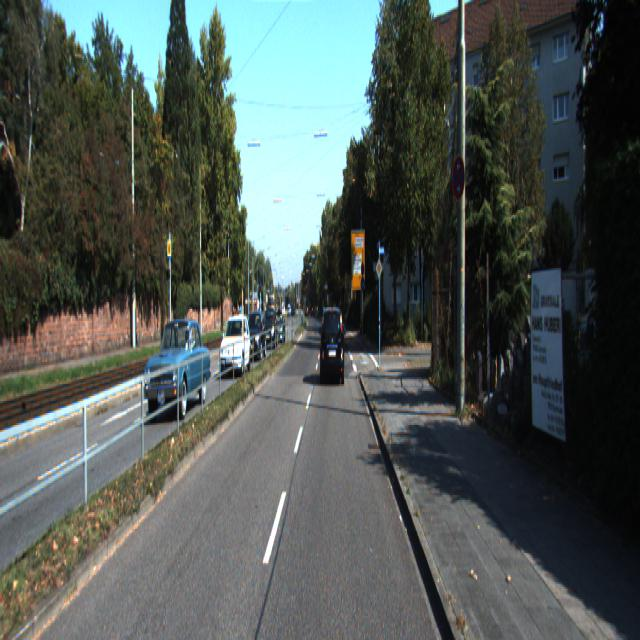Car: (146, 316, 214, 418), (220, 313, 252, 380), (321, 304, 346, 386), (244, 310, 267, 362), (262, 308, 278, 351)
